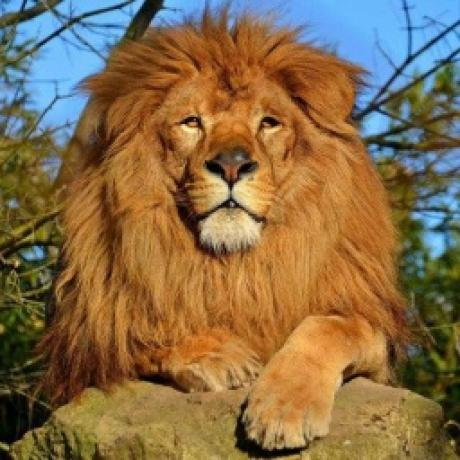Lion: (49, 9, 411, 452)
